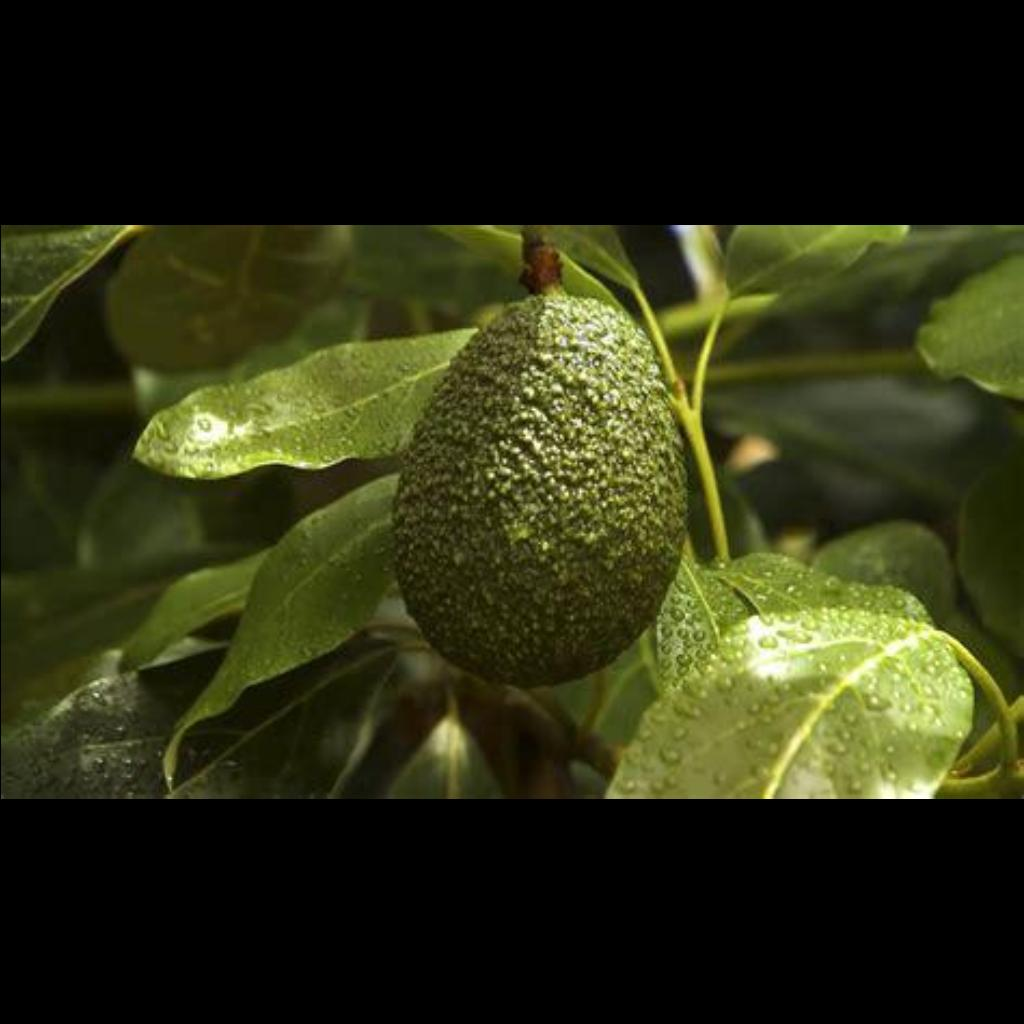Healthy: (397, 286, 693, 674)
